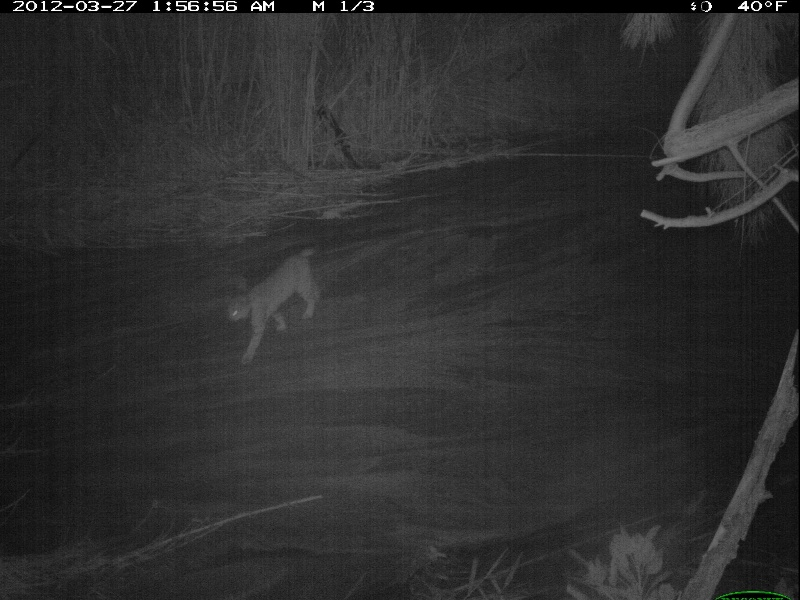cat: (226, 241, 322, 370)
